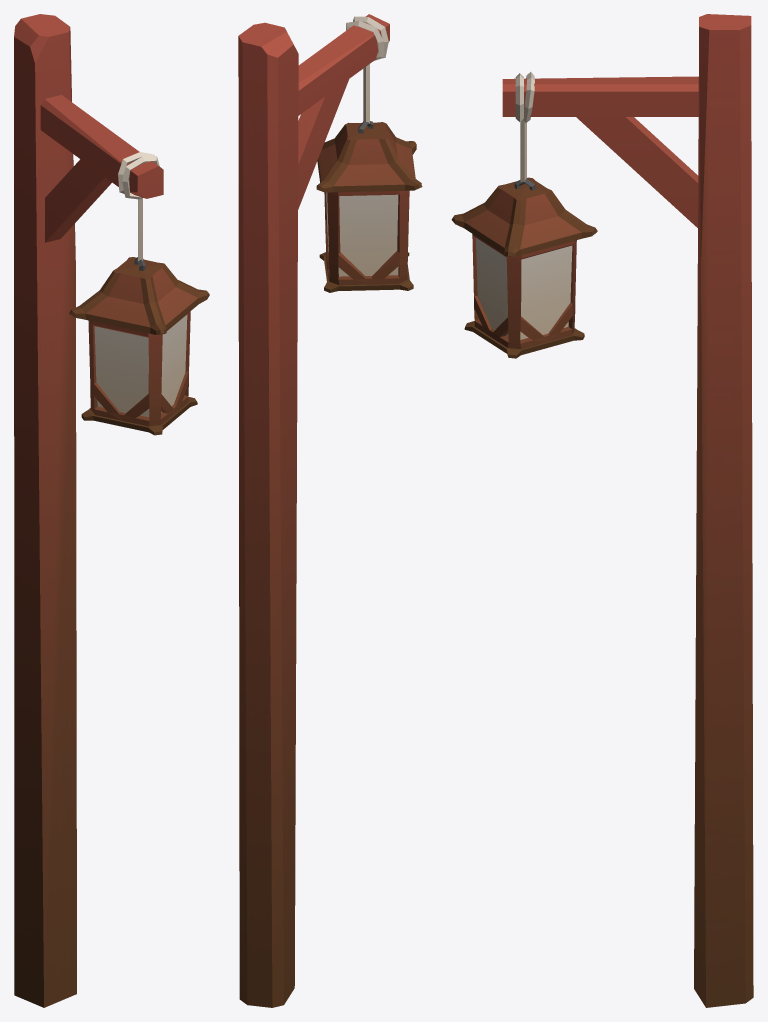
The model's file is Lantern_Wood.fbx.
The picture shows the model from 3 angles, left to right: view 1: azimuth 30°, elevation 25°; view 2: azimuth 150°, elevation 25°; view 3: azimuth 270°, elevation 25°; orthographic projection.
Visible parts, largest first — view 1: Lantern_Wood; view 2: Lantern_Wood; view 3: Lantern_Wood.
Boxes of the visible parts, box(x1,y1,x2,y2) form: Lantern_Wood: box(14, 14, 209, 1007); Lantern_Wood: box(238, 14, 422, 1007); Lantern_Wood: box(451, 14, 753, 1007).
Size of the model in its own units: 0.567 by 4.17 by 1.17.
